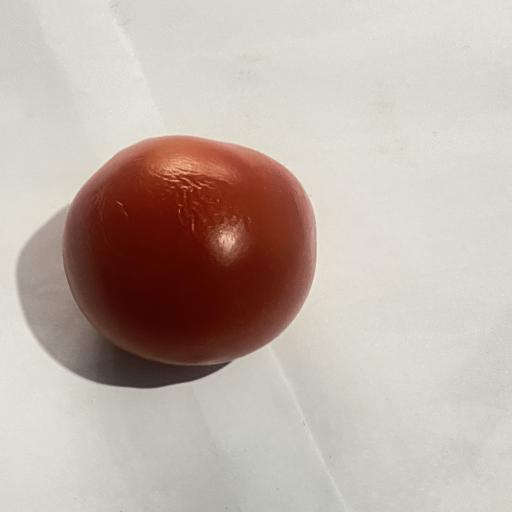overipe: (63, 136, 316, 365)
